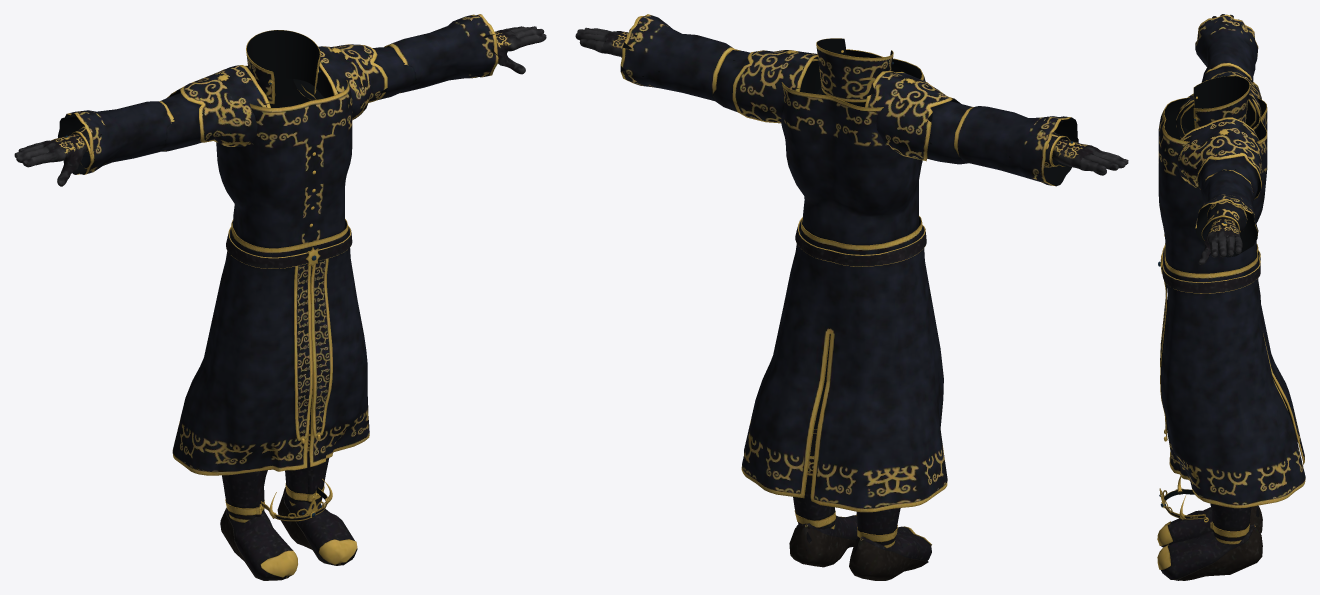
The model's file is mage_infernal.glb.
3 renders of one model, left to right at view 1: azimuth 30°, elevation 25°; view 2: azimuth 150°, elevation 25°; view 3: azimuth 270°, elevation 25°, orthographic. The views are drawn at different scales.
Parts seen in each view (by area): view 1: robe, feet, gloves, circlet; view 2: robe, feet, gloves; view 3: robe, feet, gloves, circlet.
Part boxes in pixels (x1=…): robe: x1=58, y1=14, x2=498, y2=475; feet: x1=220, y1=407, x2=357, y2=580; gloves: x1=14, y1=26, x2=546, y2=186; circlet: x1=259, y1=479, x2=332, y2=521; robe: x1=620, y1=14, x2=1078, y2=512; feet: x1=789, y1=429, x2=931, y2=580; gloves: x1=575, y1=27, x2=1128, y2=175; robe: x1=1158, y1=14, x2=1305, y2=508; feet: x1=1157, y1=503, x2=1262, y2=580; gloves: x1=1198, y1=14, x2=1247, y2=264; circlet: x1=1159, y1=476, x2=1208, y2=522.
Bounding box in the file's own units: 1.8 × 1.67 × 0.4709.
Materials: 4 (4 with a texture image).
